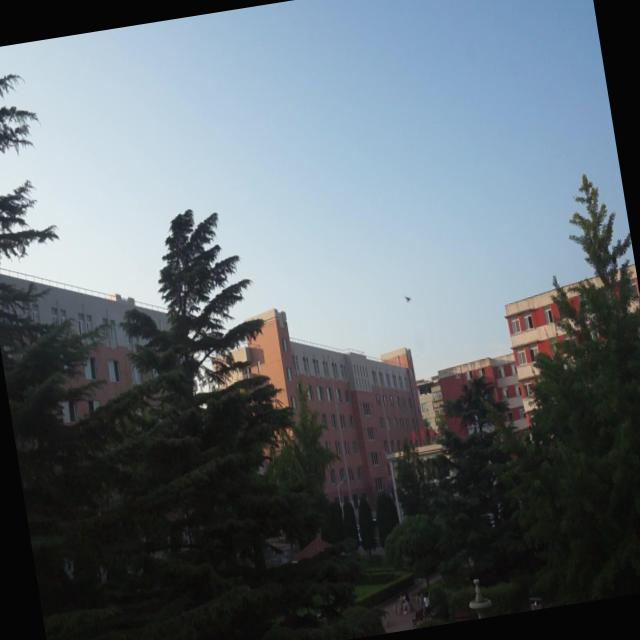drone: (403, 292, 413, 307)
